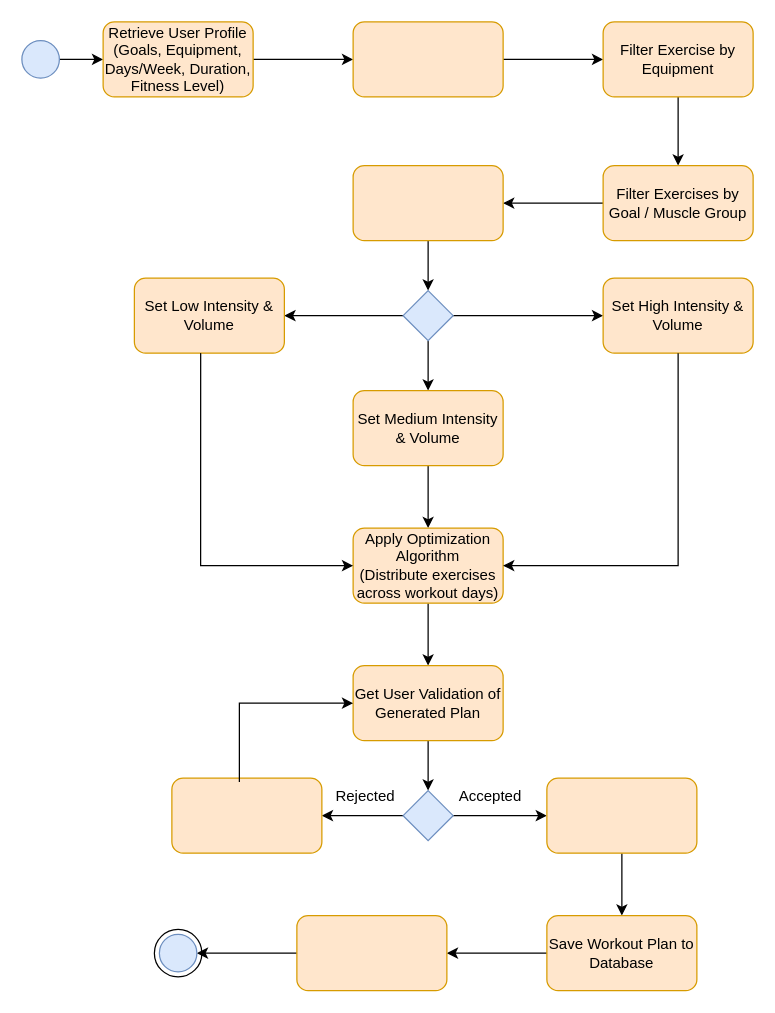
Image size: 775x1013. Some labels were removed from this diagram. The shapes that lost their labels are listed below. From the top down, each one's centre as x and y in pixels, then its label:
At [427,59]: "Fetch Exercise Database".
At [427,202]: "Get Fitness Level".
At [246,815]: "Adjust Parameters".
At [621,815]: "Assign Sets / Reps / Rest Based on Fitness Level".
At [371,952]: "Return Generated Plan".
